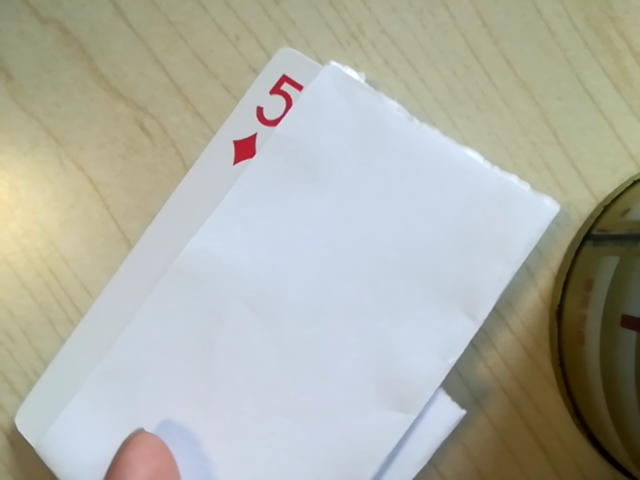fk 5: (231, 68, 310, 167)
